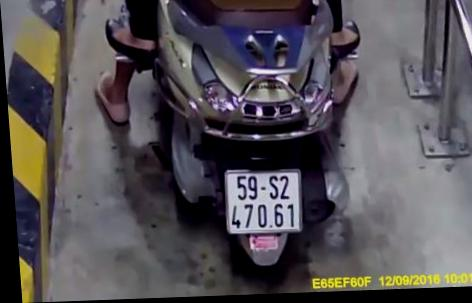License_Plate: (217, 161, 309, 240)
